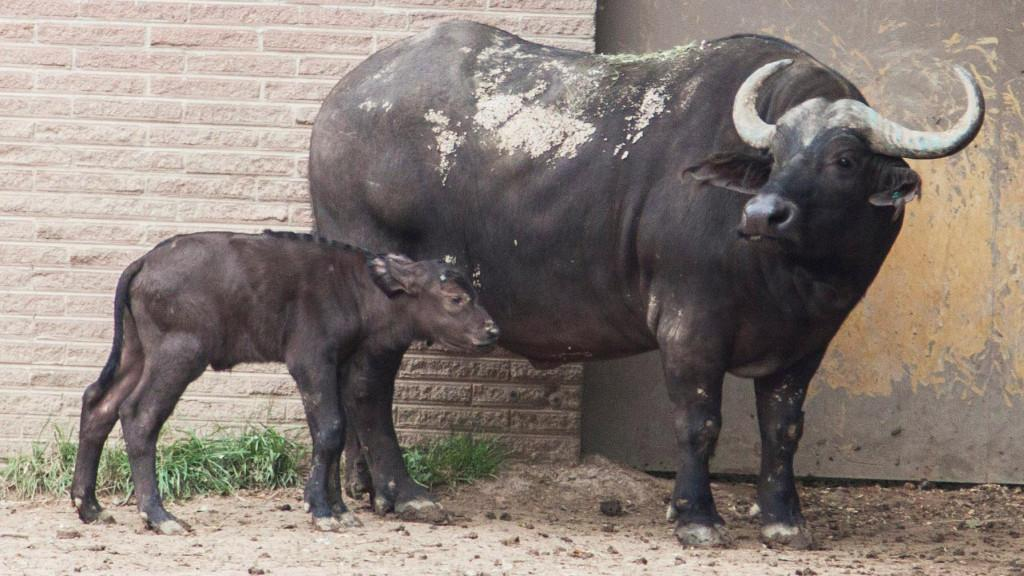Buffalo: (574, 29, 1024, 535)
